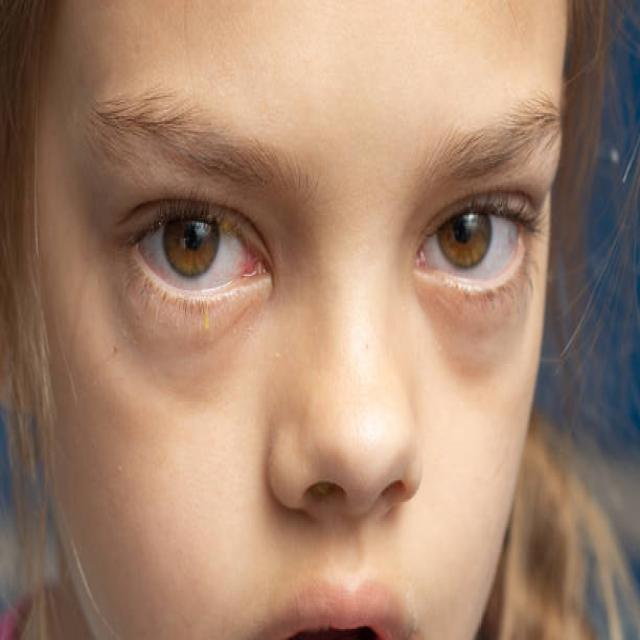no_dark_circle: (103, 284, 269, 375), (415, 286, 543, 341)
